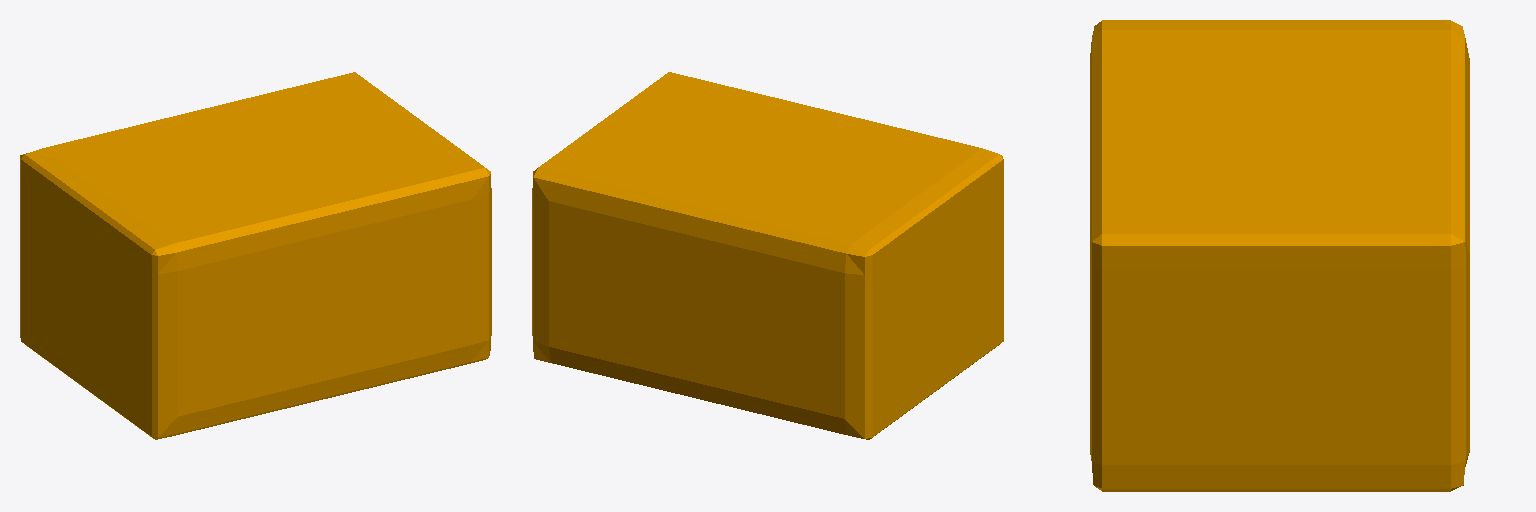
The robot description file, URDF, robot "cylinder_box_54":
<?xml version="1.0" encoding="utf-8"?>  <robot name="cylinder_box_54">   <link name="cylinder_box_54">     <visual>       <geometry>         <mesh filename="../meshes/box/box_54.stl" scale="1 1 1"/>       </geometry>     </visual>     <collision>       <geometry>         <mesh filename="../meshes/box/box_54.stl" scale="1 1 1"/>       </geometry>     </collision>     <inertial>        <origin         xyz="0 0 0"         rpy="0 0 0" />       <mass value="0.36286203759416935"/>       <origin rpy="0 0 0" xyz="0 0 0"/>       <inertia ixx="0.0002332077004592001" ixy="2.8226726163372605e-08" ixz="-1.4717108045263473e-07" iyy="0.00037065879654830084" iyz="1.7357254405086952e-08" izz="0.0004365352963405712"/>     </inertial>   </link>  </robot>

--- Render facts (derived) ---
Views: 3 orthographic renders of the robot side by side, from view 1: azimuth 30°, elevation 25°; view 2: azimuth 150°, elevation 25°; view 3: azimuth 270°, elevation 25°.
Model cylinder_box_54 with 1 links and 0 joints (none), rooted at cylinder_box_54, posed every joint at zero.
Visible links, largest first — view 1: cylinder_box_54; view 2: cylinder_box_54; view 3: cylinder_box_54.
Boxes of the visible links, box(x1,y1,x2,y2) form: cylinder_box_54: box(20, 72, 491, 439); cylinder_box_54: box(532, 72, 1003, 439); cylinder_box_54: box(1090, 20, 1469, 491).
Size in the robot's own frame: 0.0978 by 0.0708 by 0.0529 metres.
Meshes: 1 distinct files referenced, 1 mesh visuals loaded (1 binary STL).